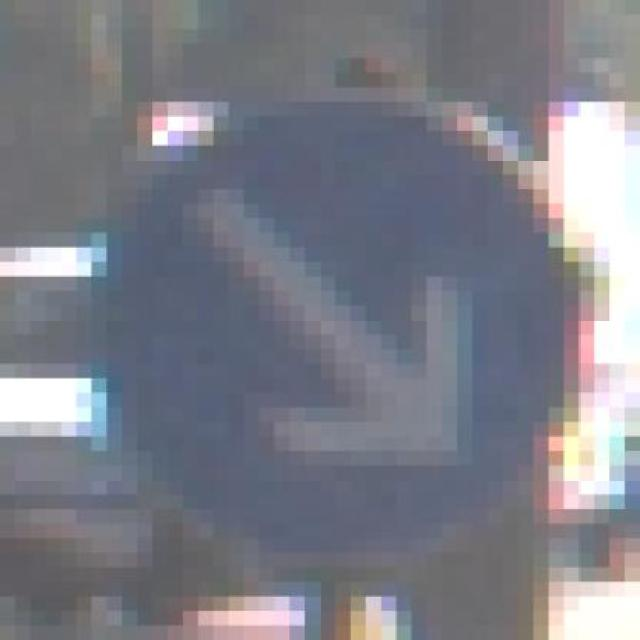Keep-Right: (61, 87, 579, 582)
